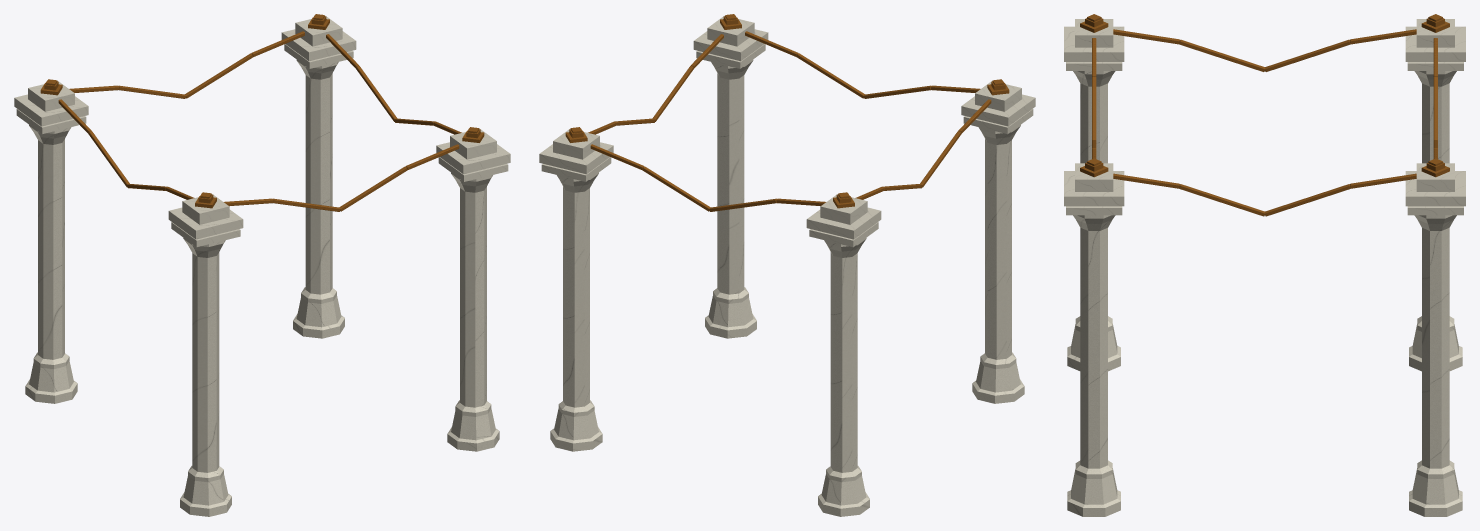
3 renders of one model, left to right at view 1: azimuth 30°, elevation 25°; view 2: azimuth 150°, elevation 25°; view 3: azimuth 270°, elevation 25°, orthographic. The views are drawn at different scales.
Parts seen in each view (by area): view 1: Layered octagonal pier shaft and spreading neck.008, Layered octagonal pier shaft and spreading neck.011, Layered octagonal pier shaft and spreading neck.010, Layered octagonal pier shaft and spreading neck.009, Broad upper capital bearing.008, Broad upper capital bearing.009, Broad upper capital bearing.010, Broad upper capital bearing.011, Socket marble pedestal.008, Socket marble pedestal.010, Socket marble pedestal.009, Socket marble pedestal.011 (+2 smaller); view 2: Layered octagonal pier shaft and spreading neck.009, Layered octagonal pier shaft and spreading neck.010, Layered octagonal pier shaft and spreading neck.011, Layered octagonal pier shaft and spreading neck.008, Broad upper capital bearing.009, Broad upper capital bearing.008, Broad upper capital bearing.011, Broad upper capital bearing.010, Socket marble pedestal.009, Socket marble pedestal.011, Socket marble pedestal.008, Socket marble pedestal.010 (+2 smaller); view 3: Layered octagonal pier shaft and spreading neck.010, Layered octagonal pier shaft and spreading neck.011, Layered octagonal pier shaft and spreading neck.008, Layered octagonal pier shaft and spreading neck.009, Broad upper capital bearing.010, Broad upper capital bearing.011, Broad upper capital bearing.008, Broad upper capital bearing.009, Socket marble pedestal.010, Socket marble pedestal.011, Socket marble pedestal.008, Socket marble pedestal.009 (+8 smaller).
Boxes of the visible parts, left/top/right/bottom form: Layered octagonal pier shaft and spreading neck.008: left=180, top=238, right=231, bottom=516; Layered octagonal pier shaft and spreading neck.011: left=293, top=60, right=344, bottom=338; Layered octagonal pier shaft and spreading neck.010: left=447, top=172, right=499, bottom=451; Layered octagonal pier shaft and spreading neck.009: left=25, top=125, right=77, bottom=403; Broad upper capital bearing.008: left=168, top=207, right=243, bottom=239; Broad upper capital bearing.009: left=14, top=94, right=88, bottom=126; Broad upper capital bearing.010: left=436, top=142, right=510, bottom=174; Broad upper capital bearing.011: left=281, top=29, right=356, bottom=61; Socket marble pedestal.008: left=182, top=194, right=229, bottom=224; Socket marble pedestal.010: left=450, top=128, right=496, bottom=159; Socket marble pedestal.009: left=28, top=81, right=74, bottom=111; Socket marble pedestal.011: left=295, top=15, right=342, bottom=46; Layered octagonal pier shaft and spreading neck.009: left=818, top=238, right=869, bottom=516; Layered octagonal pier shaft and spreading neck.010: left=705, top=60, right=756, bottom=338; Layered octagonal pier shaft and spreading neck.011: left=550, top=172, right=602, bottom=451; Layered octagonal pier shaft and spreading neck.008: left=972, top=125, right=1024, bottom=403; Broad upper capital bearing.009: left=806, top=207, right=881, bottom=239; Broad upper capital bearing.008: left=961, top=94, right=1035, bottom=126; Broad upper capital bearing.011: left=539, top=142, right=613, bottom=174; Broad upper capital bearing.010: left=693, top=29, right=768, bottom=61; Socket marble pedestal.009: left=820, top=194, right=867, bottom=224; Socket marble pedestal.011: left=553, top=128, right=599, bottom=159; Socket marble pedestal.008: left=975, top=81, right=1021, bottom=111; Socket marble pedestal.010: left=707, top=15, right=754, bottom=46; Layered octagonal pier shaft and spreading neck.010: left=1067, top=215, right=1120, bottom=516; Layered octagonal pier shaft and spreading neck.011: left=1409, top=215, right=1462, bottom=516; Layered octagonal pier shaft and spreading neck.008: left=1067, top=71, right=1120, bottom=371; Layered octagonal pier shaft and spreading neck.009: left=1409, top=71, right=1462, bottom=371; Broad upper capital bearing.010: left=1064, top=171, right=1124, bottom=206; Broad upper capital bearing.011: left=1405, top=171, right=1465, bottom=206; Broad upper capital bearing.008: left=1064, top=26, right=1124, bottom=61; Broad upper capital bearing.009: left=1405, top=26, right=1465, bottom=61; Socket marble pedestal.010: left=1075, top=163, right=1113, bottom=191; Socket marble pedestal.011: left=1416, top=163, right=1454, bottom=191; Socket marble pedestal.008: left=1075, top=19, right=1113, bottom=47; Socket marble pedestal.009: left=1416, top=19, right=1454, bottom=47.
Size of the model in its own units: 4 by 3.78 by 4.
Materials: 3 (3 with a texture image).
